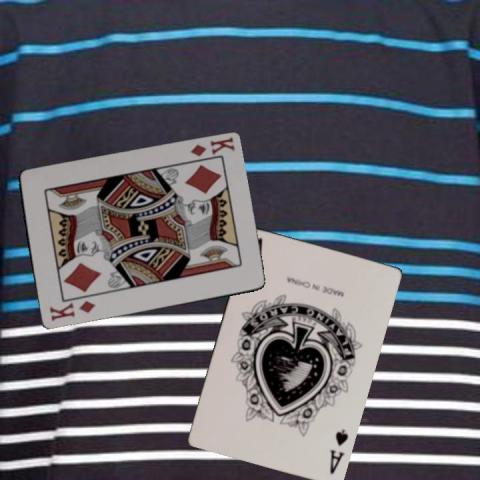As: (327, 426, 349, 476)
Kd: (46, 298, 97, 323), (187, 134, 236, 159)
